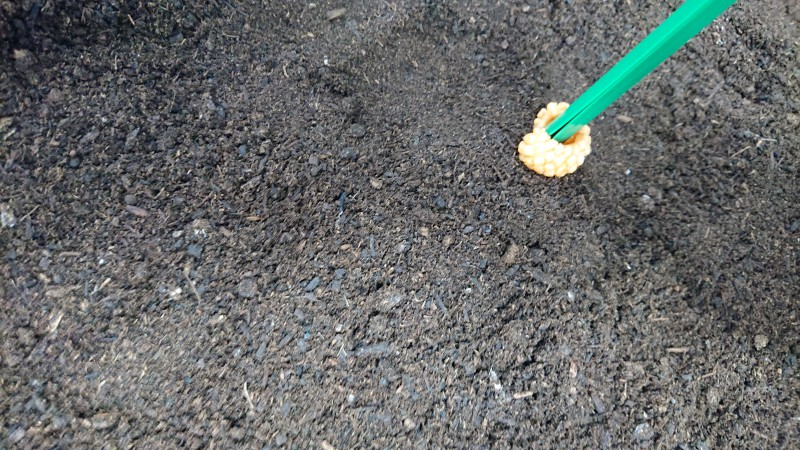eggs: (517, 93, 595, 180)
